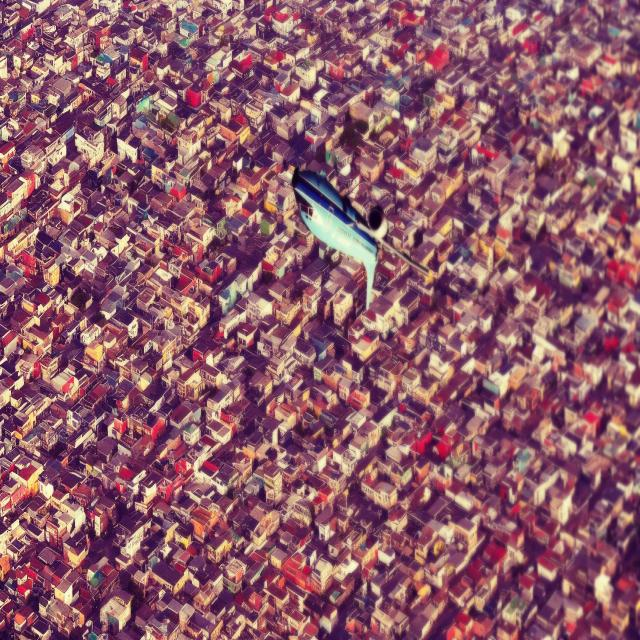airplane: (292, 165, 429, 310)
